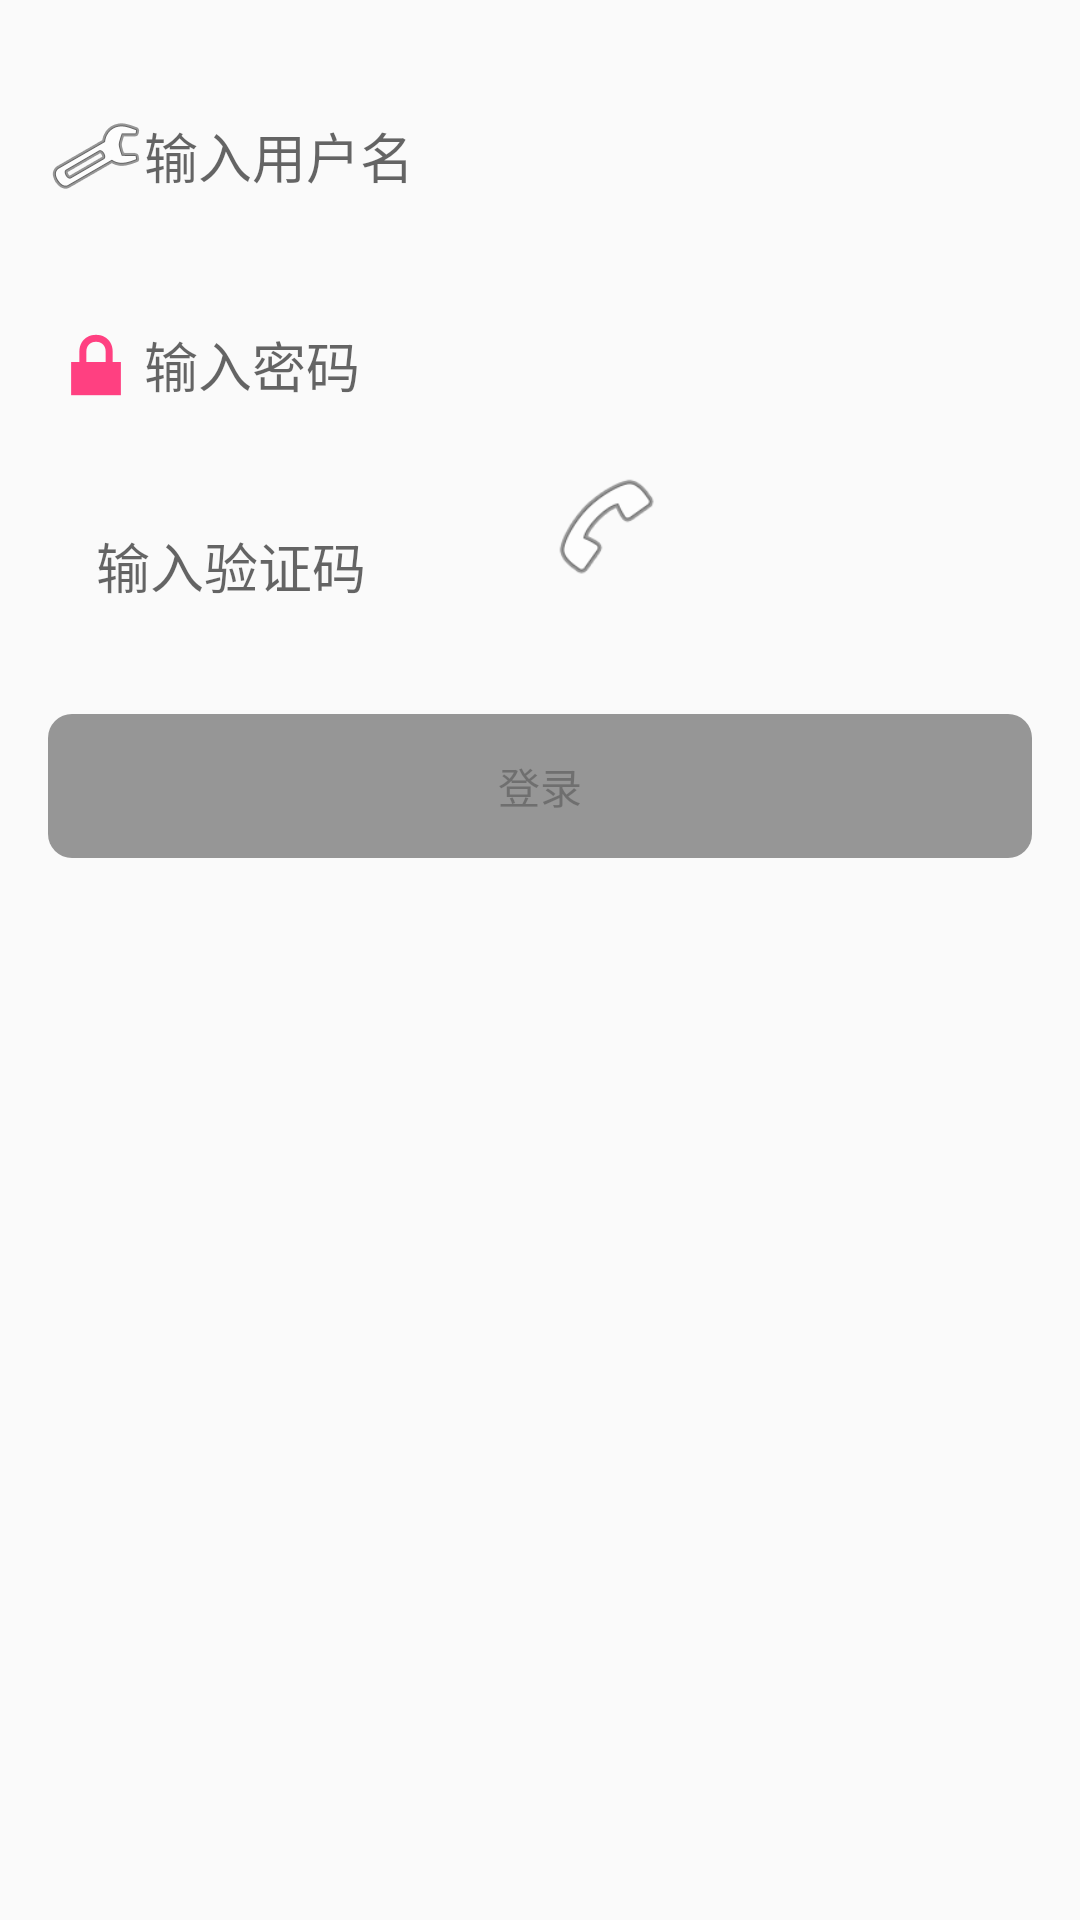

Where to tap for icons on this 1080w x 1920h app screen, as (x=x, y=y):
call: (x=607, y=527)
